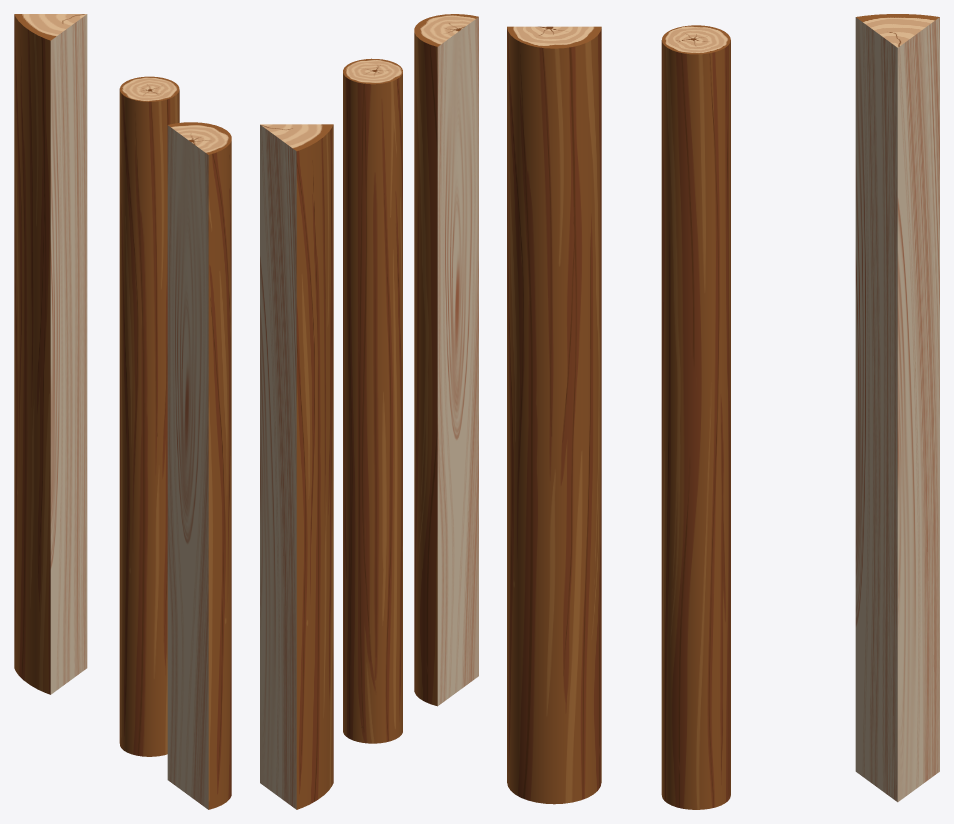
The model's file is Kayu Bakar.fbx.
3 views of the same model, side by side, from view 1: azimuth 30°, elevation 25°; view 2: azimuth 150°, elevation 25°; view 3: azimuth 270°, elevation 25° (orthographic). The views are drawn at different scales.
Parts seen in each view (by area): view 1: Half.003, Half, Half.004, Half.001; view 2: Half.003, Half, Half.004, Half.001; view 3: Half, Half.003, Half.004, Half.001.
Boxes of the visible parts, x1,y1,x2,y2 form: Half.003: (14,14,87,694); Half: (167,125,231,809); Half.004: (119,76,179,756); Half.001: (168,122,231,154); Half.003: (260,124,333,809); Half: (414,17,478,706); Half.004: (343,58,402,743); Half.001: (414,14,478,46); Half: (507,27,601,804); Half.003: (855,14,939,802); Half.004: (661,25,730,809); Half.001: (507,26,601,48).
Size of the model in its own units: 33.39 by 344 by 177.
Materials: 6 (6 with a texture image).
